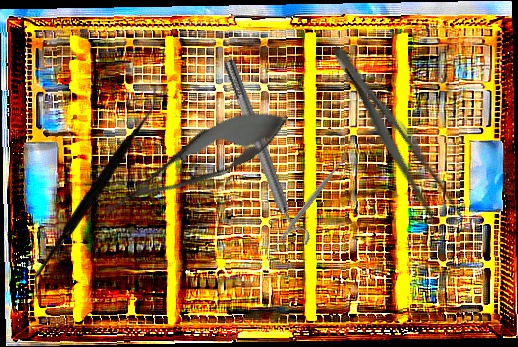Dressing Forceps: (321, 37, 469, 235)
Fixation Ring: (214, 54, 314, 254)
Micro Scissor: (92, 91, 299, 235)
Spatula Surgical: (34, 83, 158, 302), (267, 149, 353, 253)
